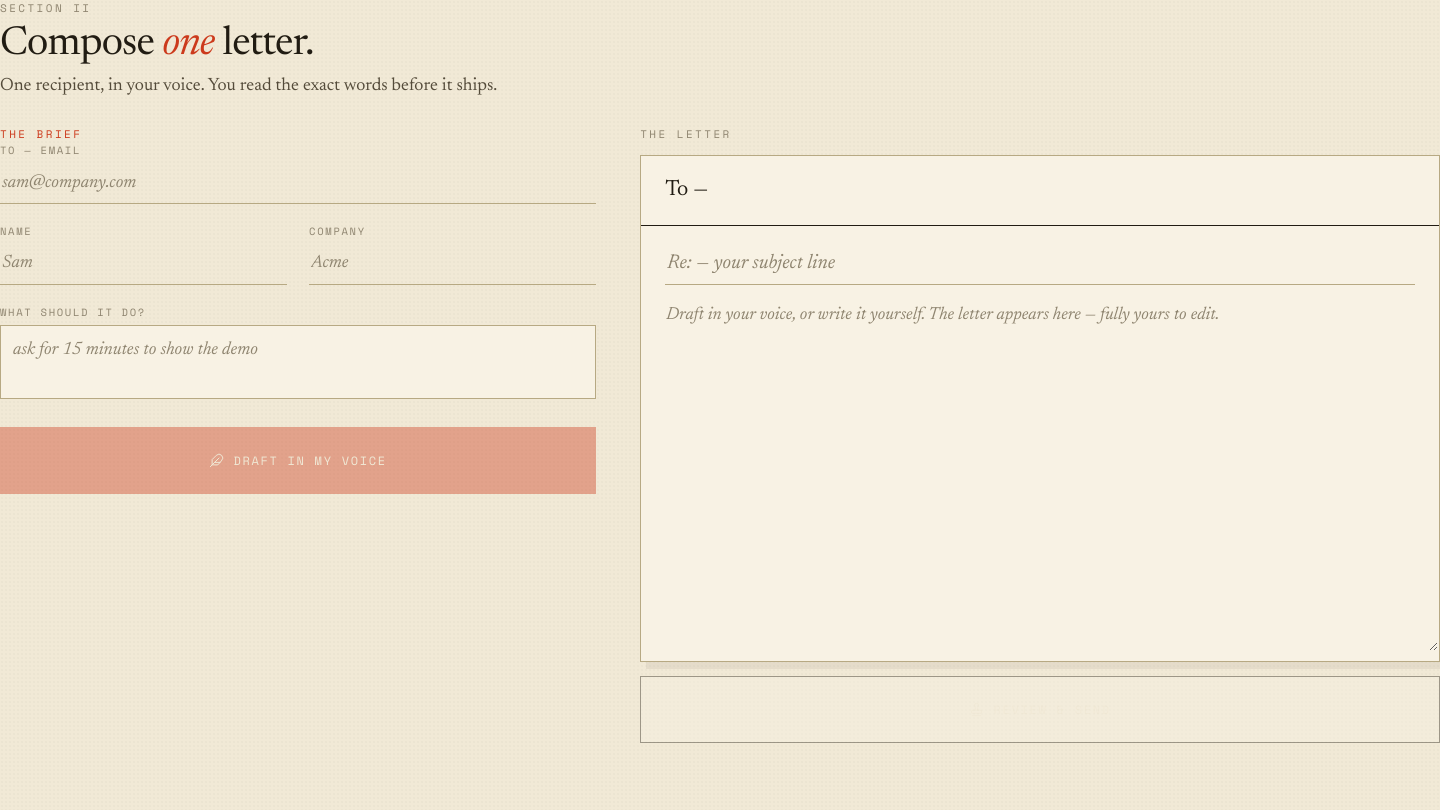
Test case: ComposePage — reaching the confirmation step › lets a hand-written email reach the confirm step without generating
The image size is (1440, 810).
Step 1. Type "sam@corp.com" into the field labelled "To — email" → {"x": 298, "y": 184}, box [0,164,596,204]
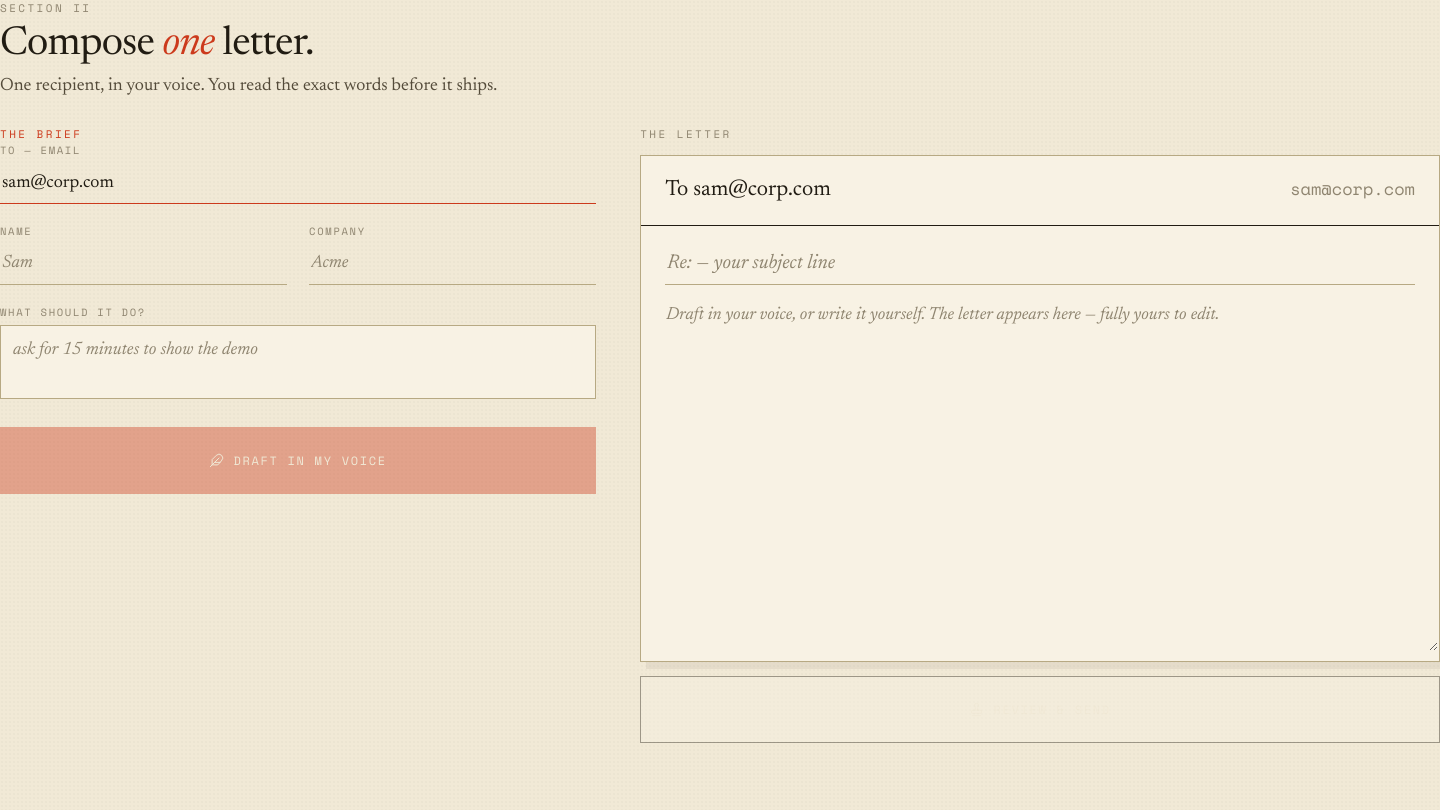
Step 2. Type "about the launch" into the field labelled "subject" → {"x": 1040, "y": 263}, box [665,242,1415,285]
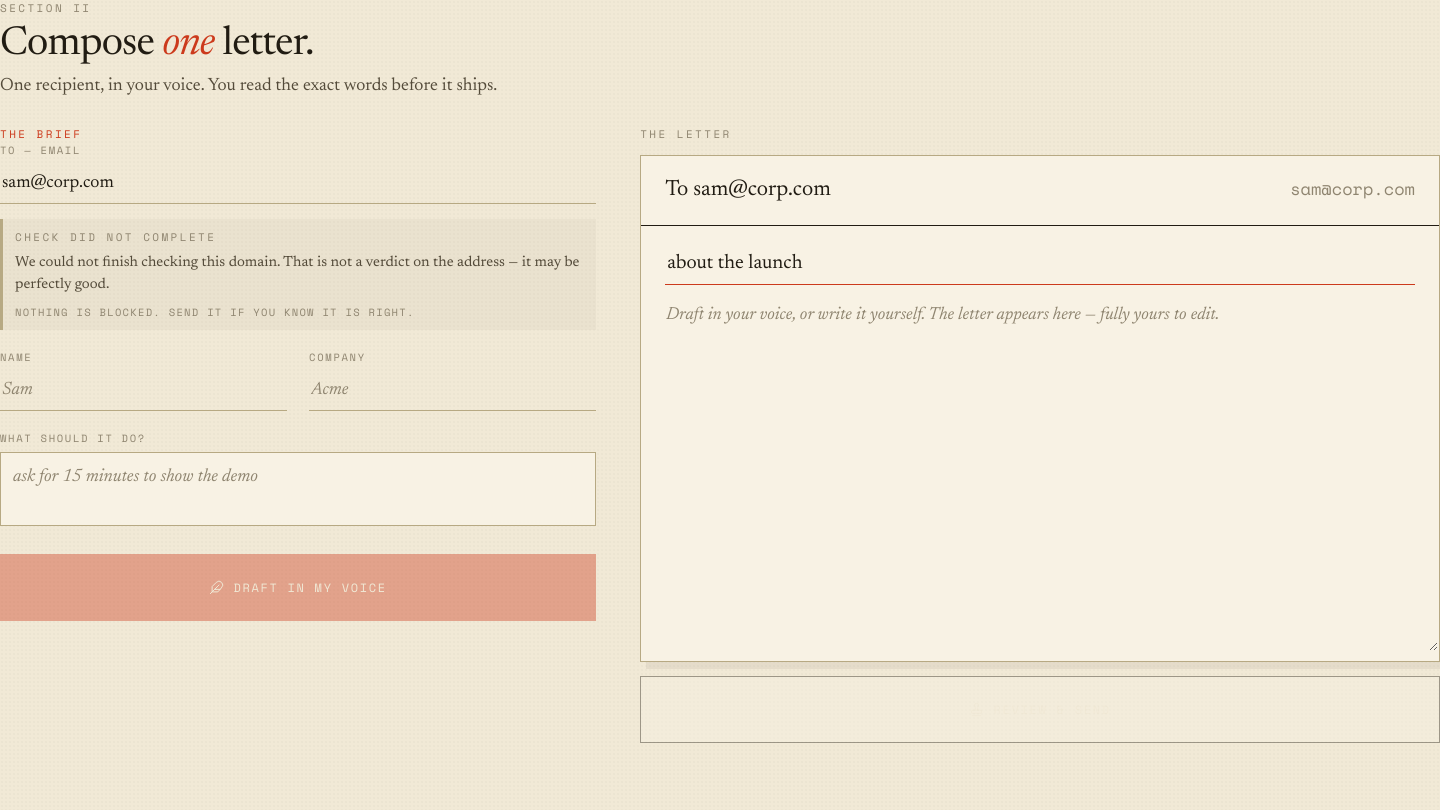
Step 3. Type "hey Sam" into the text box named "Email body" → {"x": 1040, "y": 468}, box [641,285,1439,652]
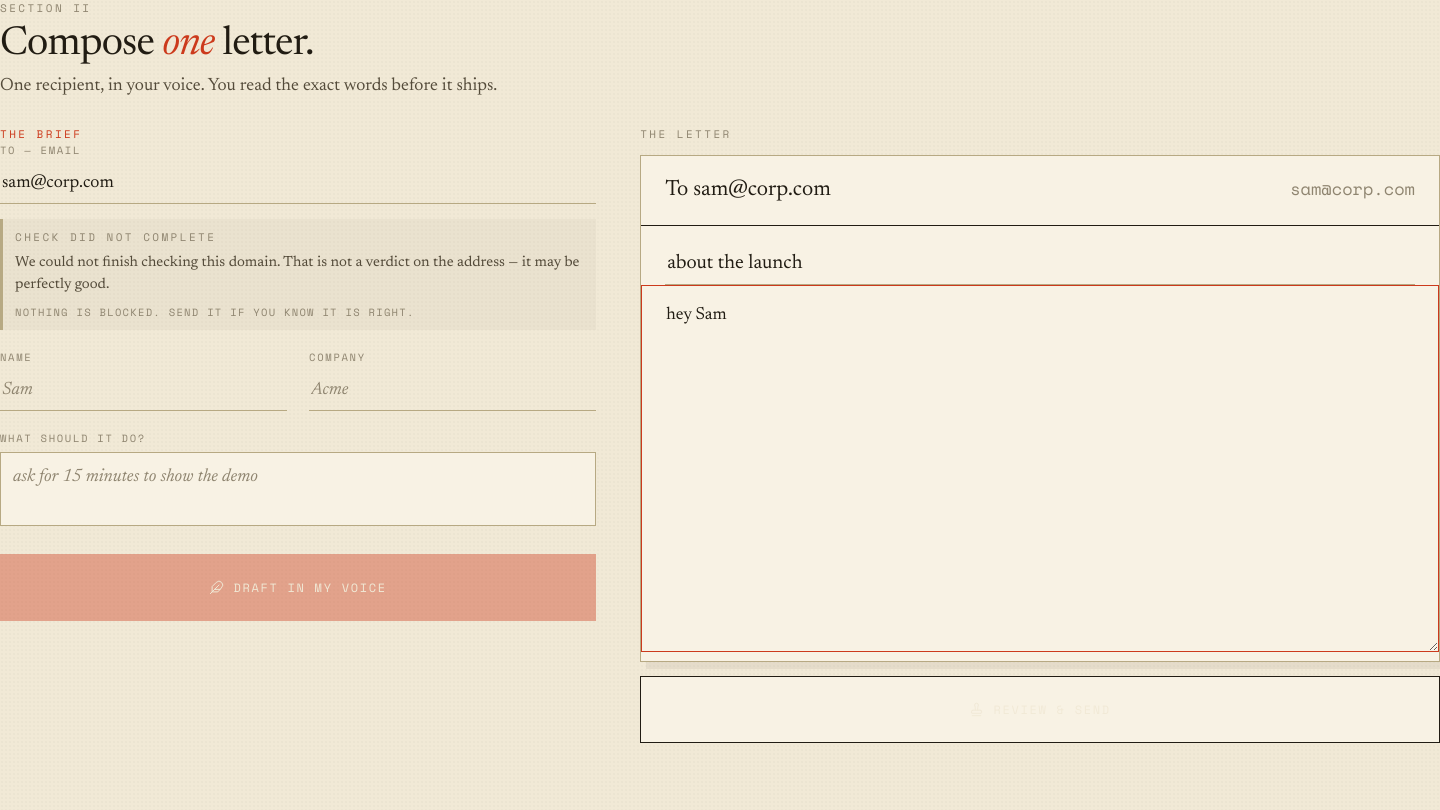
Step 4. Click the button "Review & send" → {"x": 1040, "y": 710}, box [640,676,1439,743]
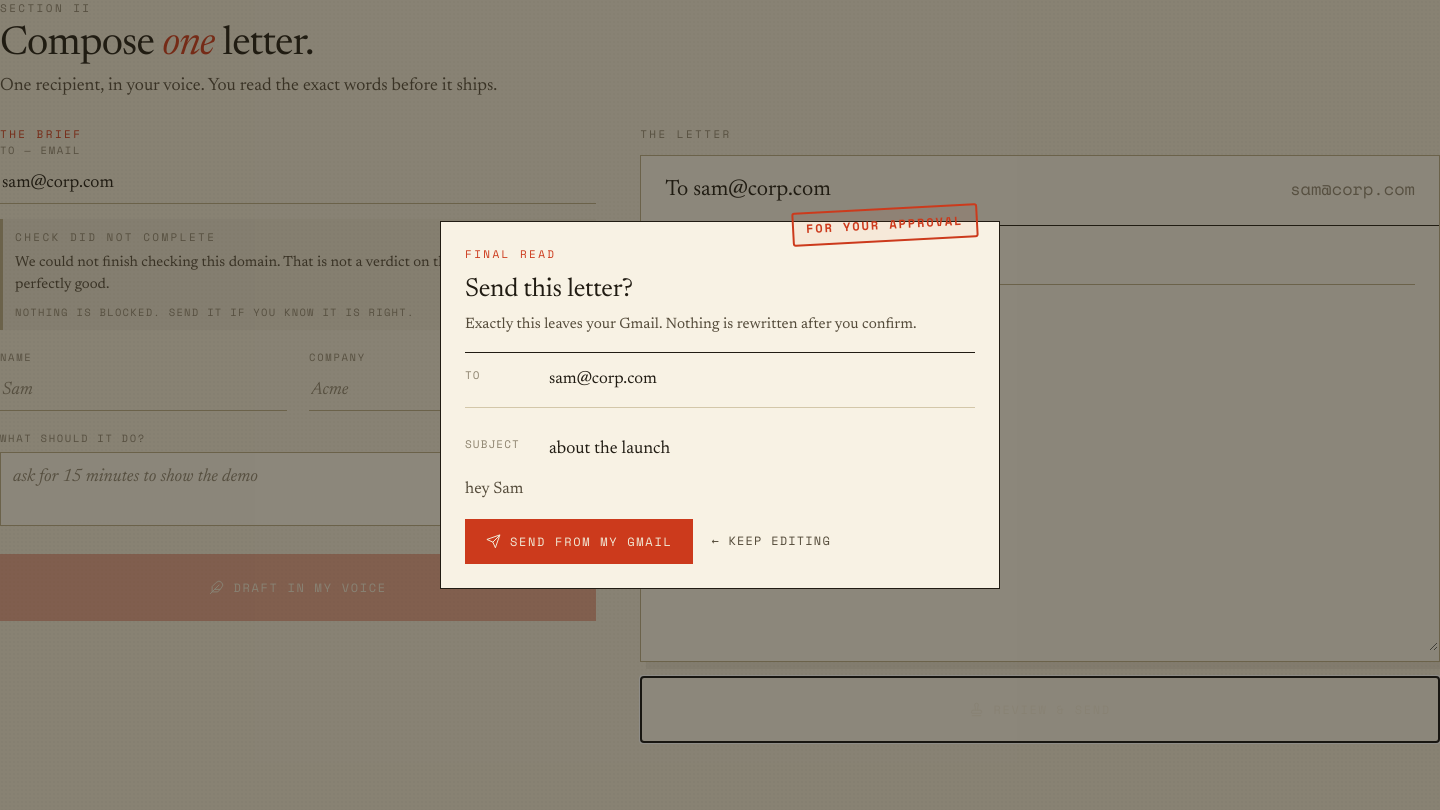
Result: the heading "Send this letter?" is shown at [465,277,633,303]
